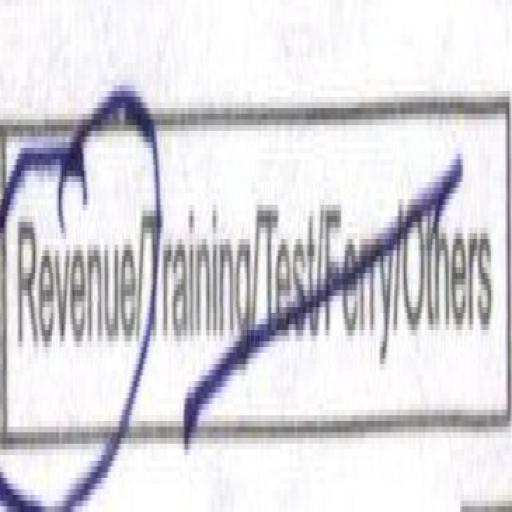check: (8, 85, 140, 512)
